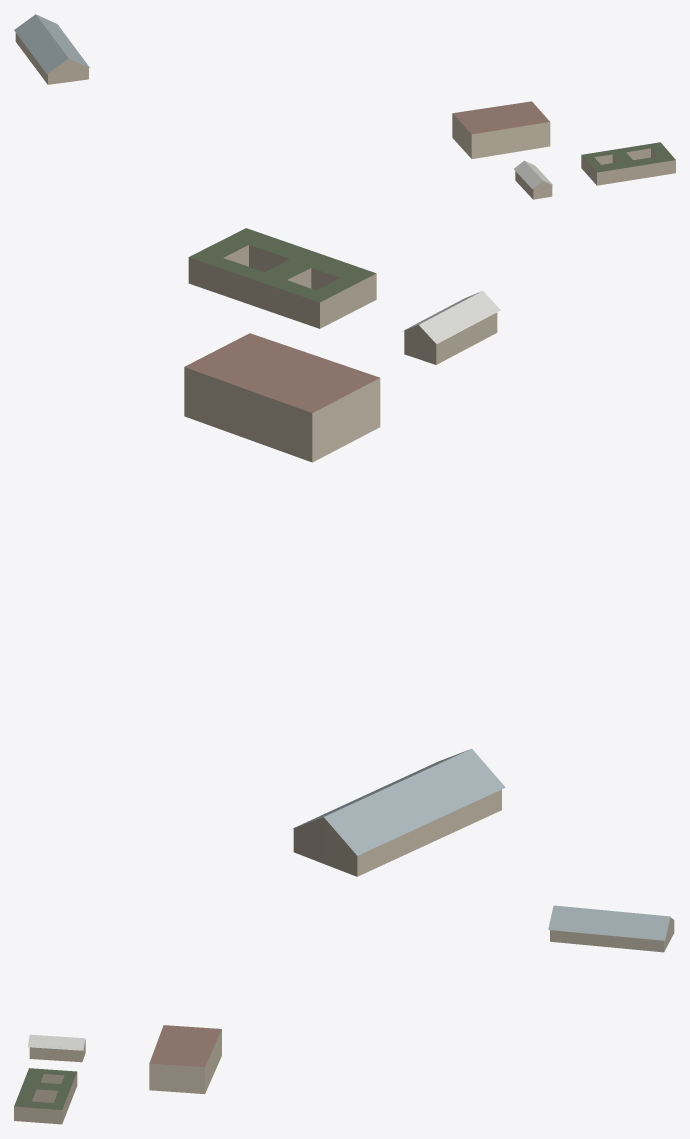
The picture shows the model from 3 angles, top to bottom: view 1: azimuth 30°, elevation 25°; view 2: azimuth 150°, elevation 25°; view 3: azimuth 270°, elevation 25°; orthographic projection. The views are drawn at different scales.
Parts seen in each view (by area): view 1: tuile; view 2: tuile; view 3: tuile.
Part boxes in pixels (x1,y1,x2,y2): tuile: [14, 14, 675, 199]; tuile: [184, 228, 505, 876]; tuile: [14, 905, 674, 1124].
Bounding box in the file's own units: 116 × 7.11 × 158.
